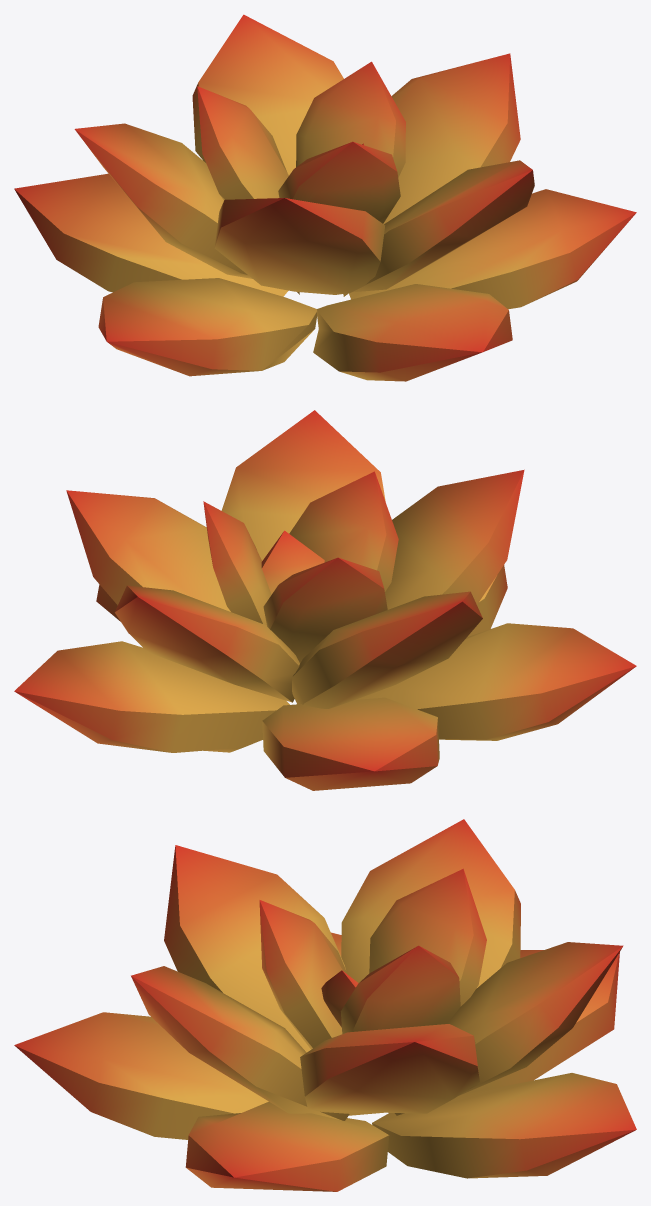
3 views of the same model, one above another, from view 1: azimuth 30°, elevation 25°; view 2: azimuth 150°, elevation 25°; view 3: azimuth 270°, elevation 25° (orthographic). The views are drawn at different scales.
Parts seen in each view (by area): view 1: LOD 1_16967760880170184947_4f521bcaeda9b9647b799715f43ad4b9; view 2: LOD 1_16967760880170184947_4f521bcaeda9b9647b799715f43ad4b9; view 3: LOD 1_16967760880170184947_4f521bcaeda9b9647b799715f43ad4b9.
Boxes of the visible parts, <box> form: LOD 1_16967760880170184947_4f521bcaeda9b9647b799715f43ad4b9: <box>14,14,636,381</box>; LOD 1_16967760880170184947_4f521bcaeda9b9647b799715f43ad4b9: <box>14,410,636,790</box>; LOD 1_16967760880170184947_4f521bcaeda9b9647b799715f43ad4b9: <box>14,819,636,1191</box>.
Size of the model in its own units: 0.8955 by 0.3434 by 0.8664.
